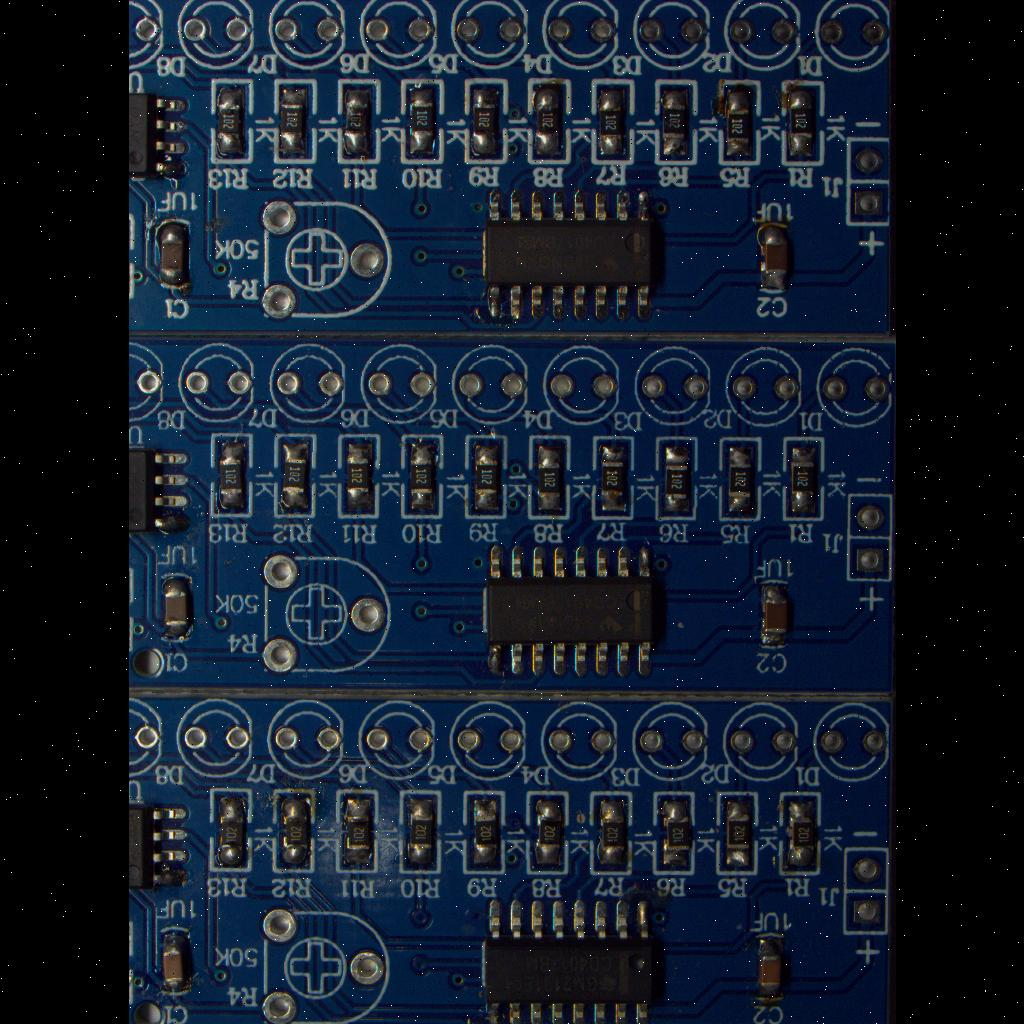OK: (472, 536, 666, 690), (472, 182, 666, 328), (472, 890, 662, 1024), (266, 786, 318, 876), (779, 432, 829, 524), (588, 77, 638, 169), (524, 76, 572, 170), (774, 788, 824, 878), (585, 789, 635, 879), (335, 76, 385, 166), (268, 431, 318, 521), (778, 77, 826, 169), (715, 77, 763, 169), (652, 76, 700, 168), (652, 432, 700, 524), (716, 433, 764, 525), (398, 75, 446, 167), (207, 76, 255, 168), (334, 430, 382, 522), (461, 432, 511, 520), (712, 788, 760, 878), (522, 788, 570, 878), (462, 76, 510, 166), (524, 433, 572, 523), (648, 789, 696, 877), (588, 434, 636, 522), (394, 788, 442, 876), (334, 786, 380, 876), (208, 430, 254, 520), (398, 432, 444, 520), (207, 786, 253, 874), (461, 788, 507, 876), (751, 572, 797, 656), (150, 214, 198, 294), (750, 216, 796, 298), (152, 568, 198, 646), (152, 922, 198, 1000), (755, 934, 787, 1002), (278, 85, 308, 157)
